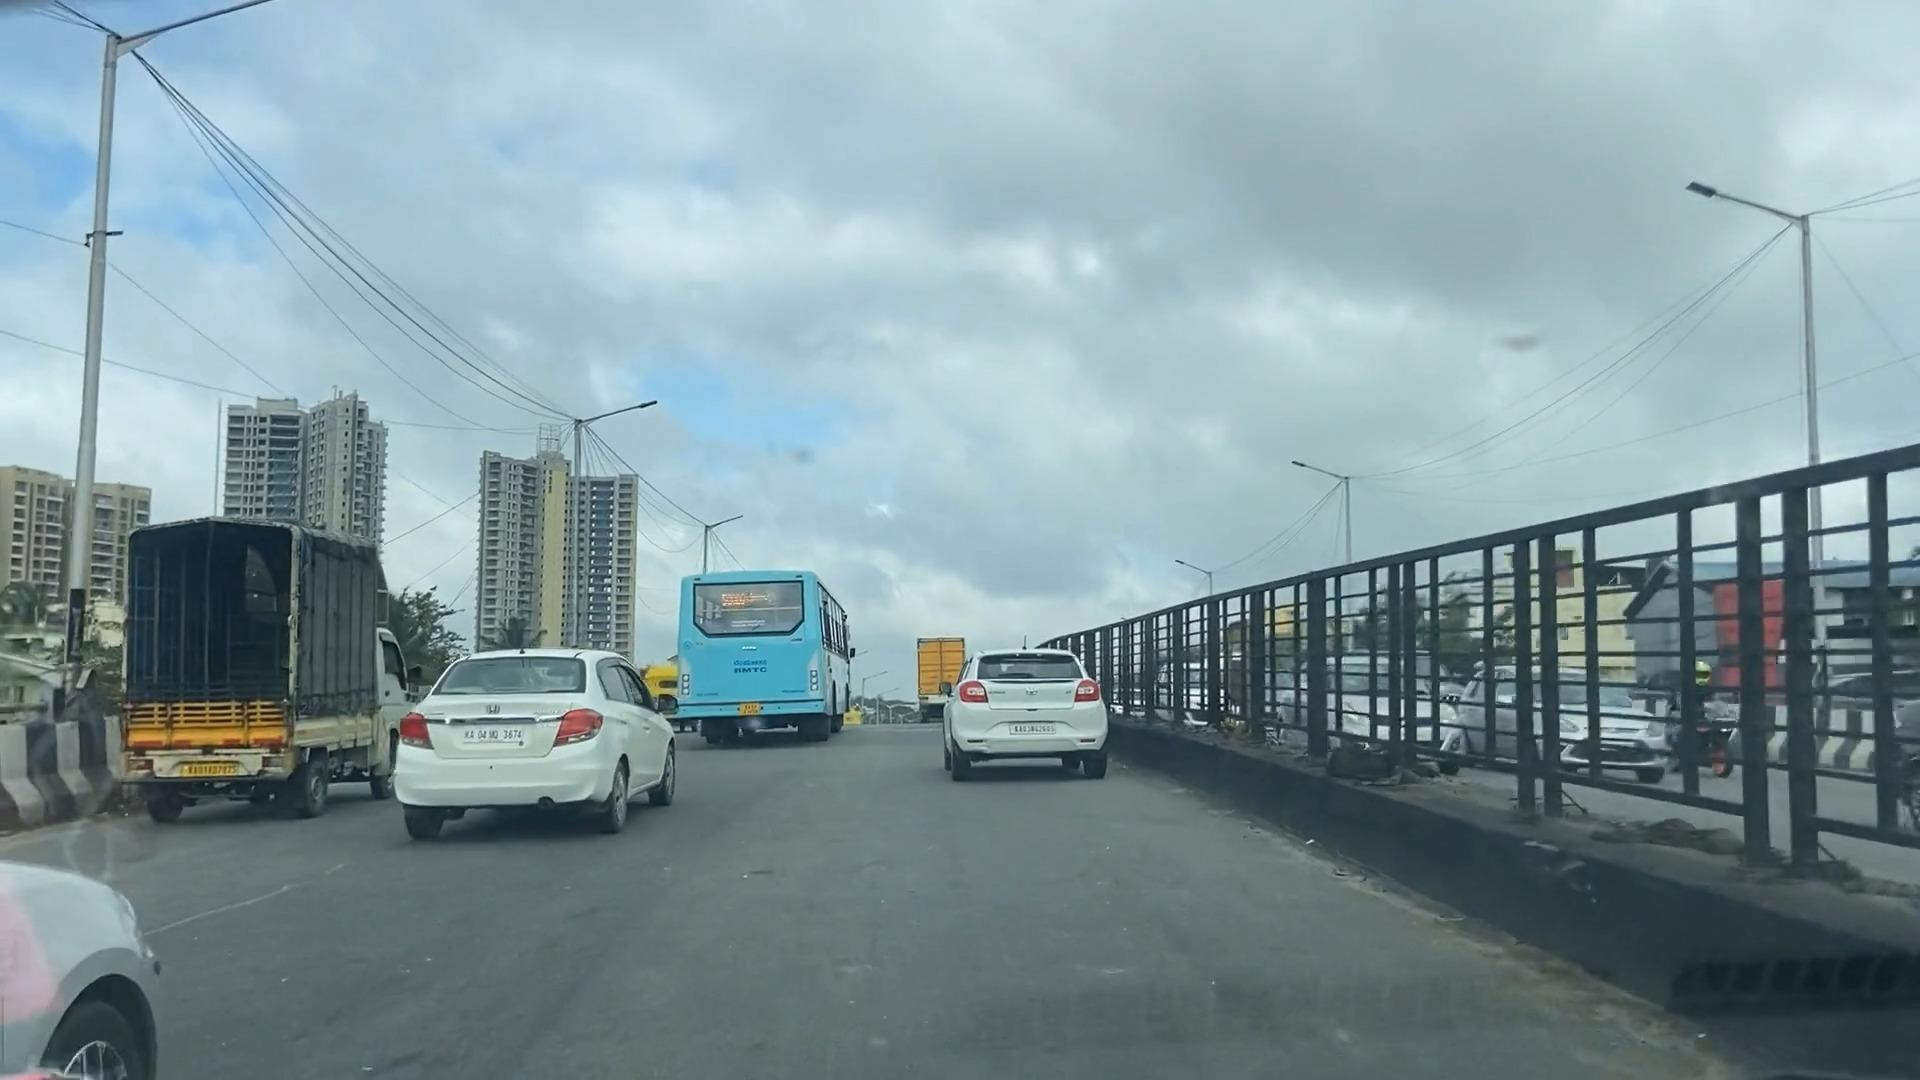HMV: (82, 487, 423, 843), (634, 489, 866, 774), (905, 613, 980, 728)
